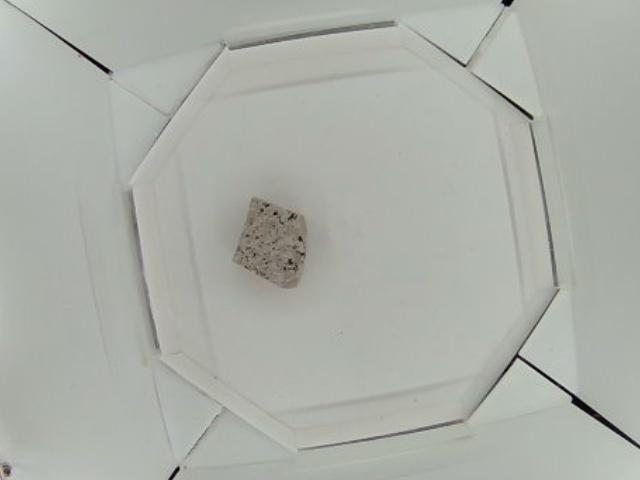China: (234, 198, 309, 290)
